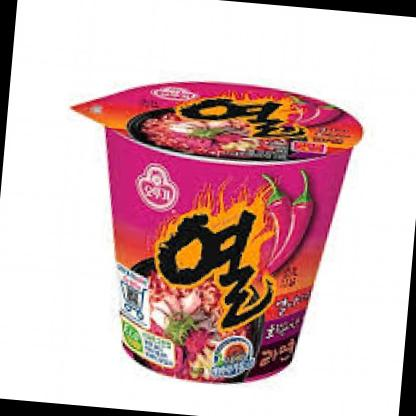Ramen: (77, 65, 372, 407)
